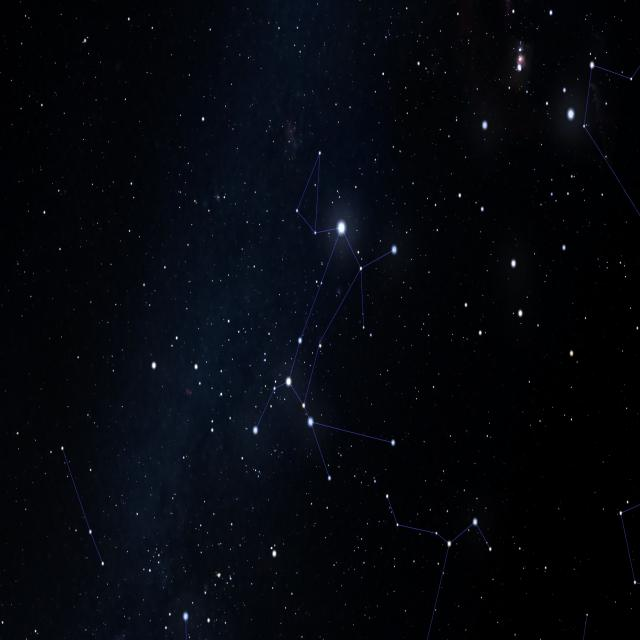Canis Major: (250, 144, 400, 484)
